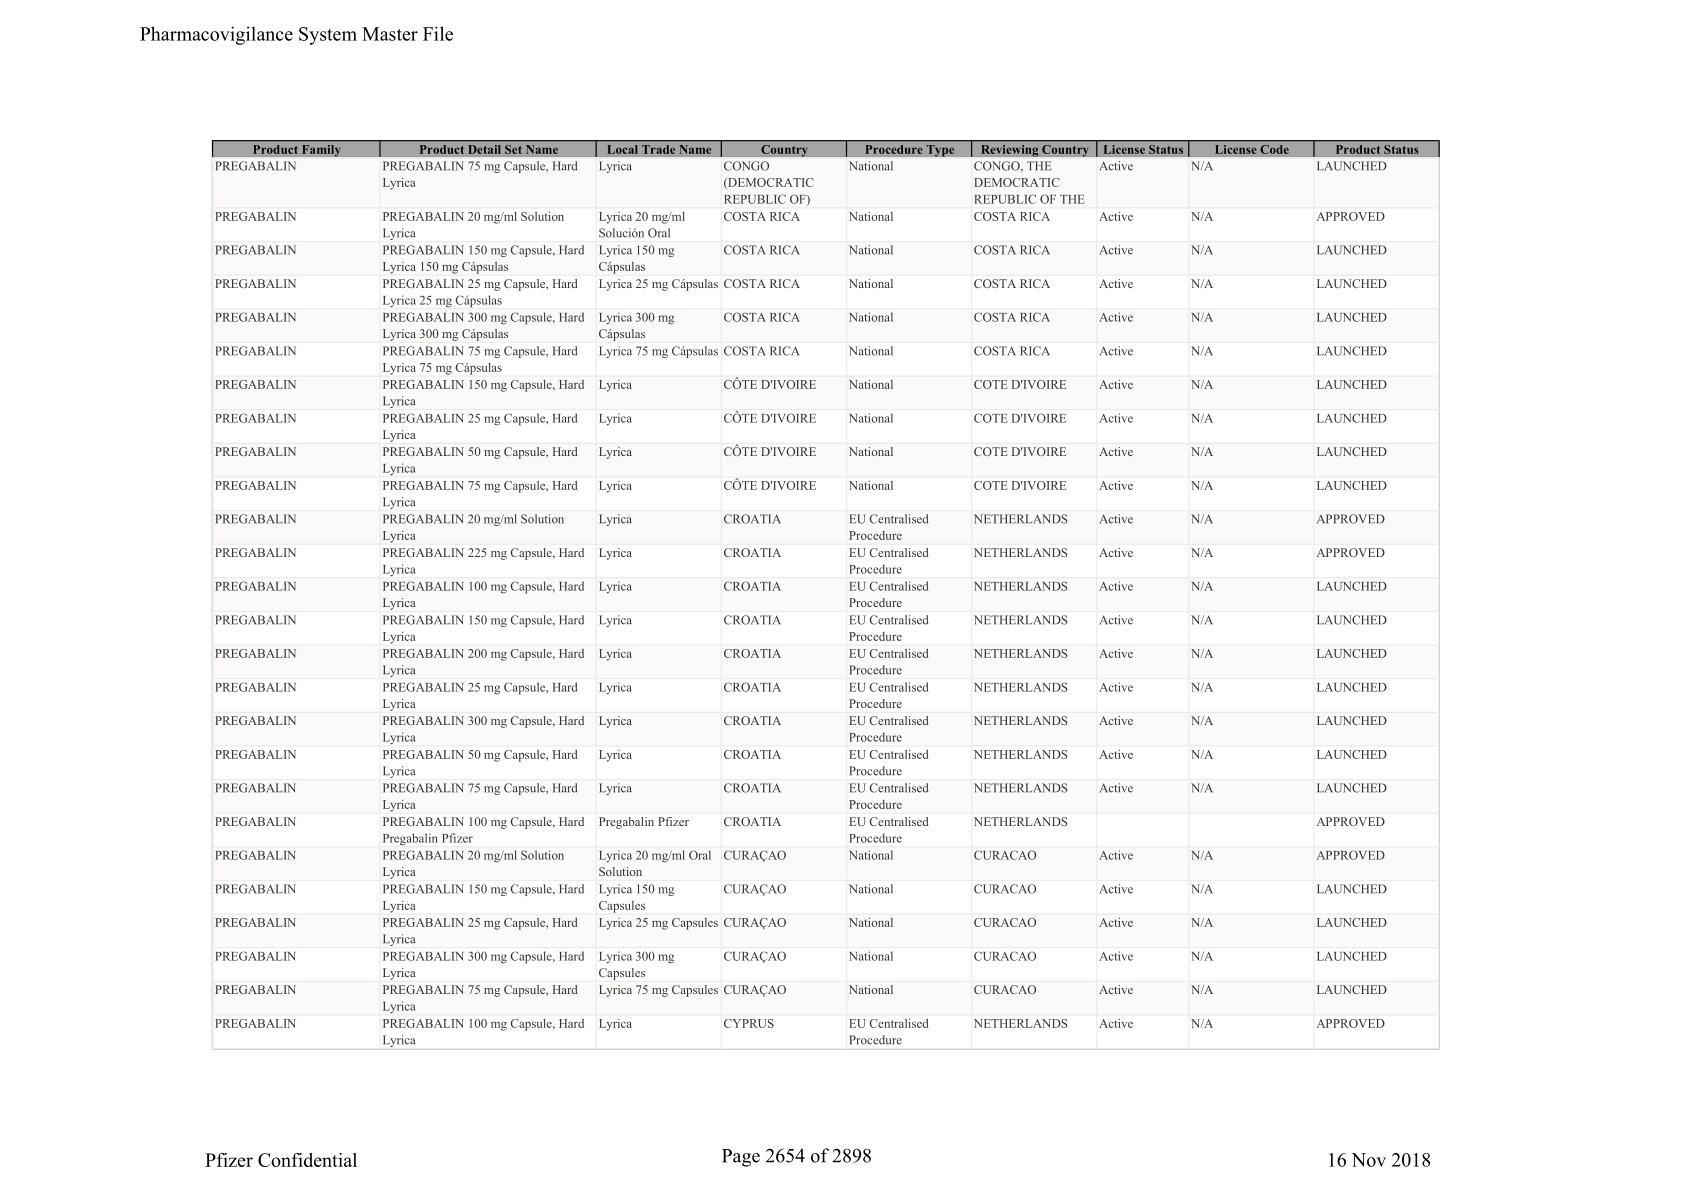full_lined: (210, 138, 1441, 1051)
